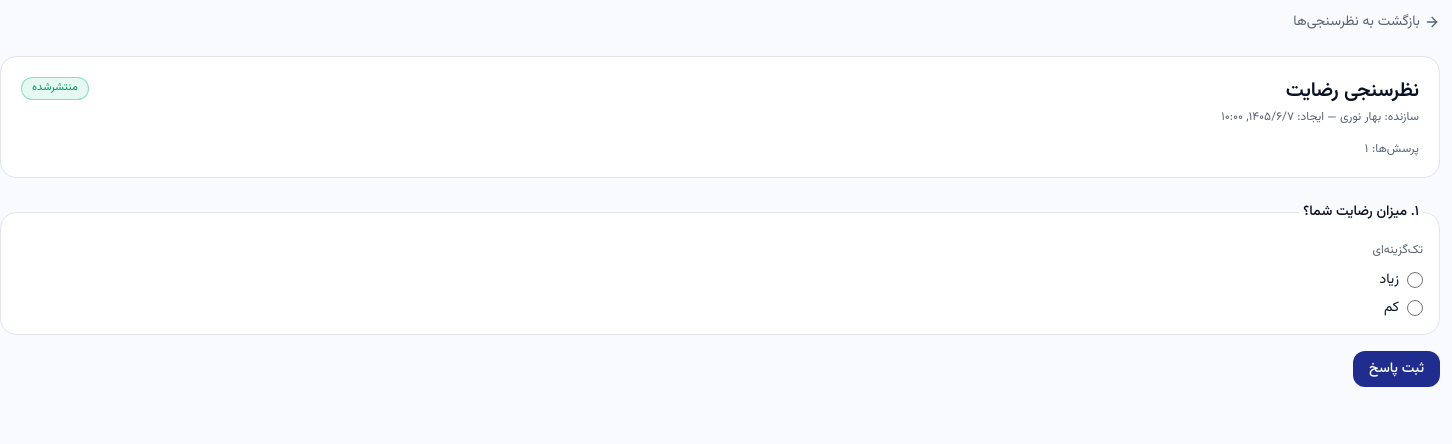
Test: CoreSurveyDetailView › participation and the one-response rule › refuses to send an empty answer list
Check: the form with test id "survey-response-form" is shown, box [0, 202, 1440, 387]
Click the button with test id "survey-submit" at (1396, 369), box [1353, 351, 1440, 387]
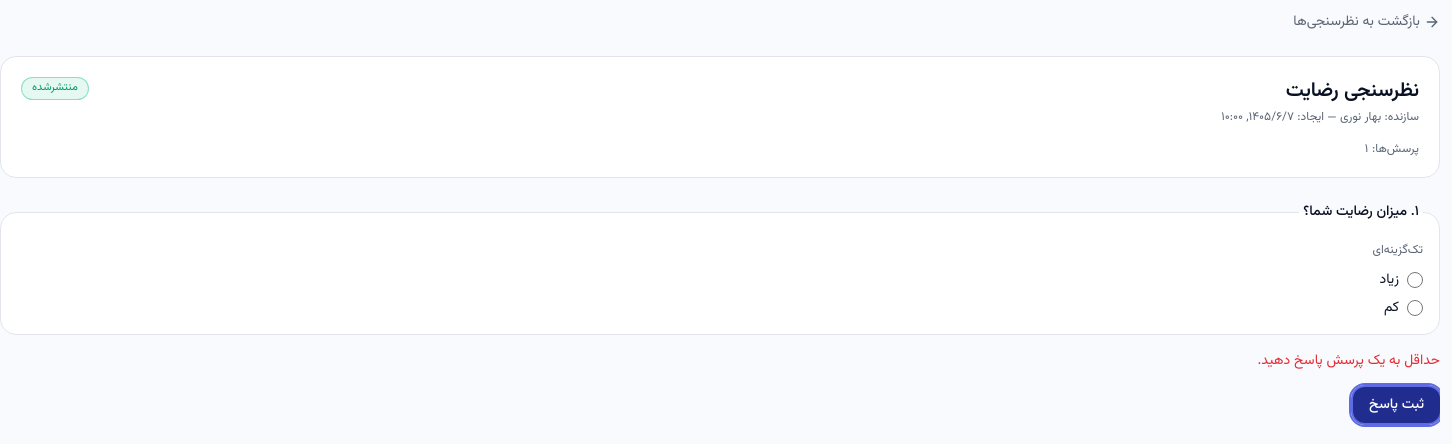
Check: the text "حداقل به یک پرسش پاسخ دهید." is shown, box [1258, 350, 1440, 372]
